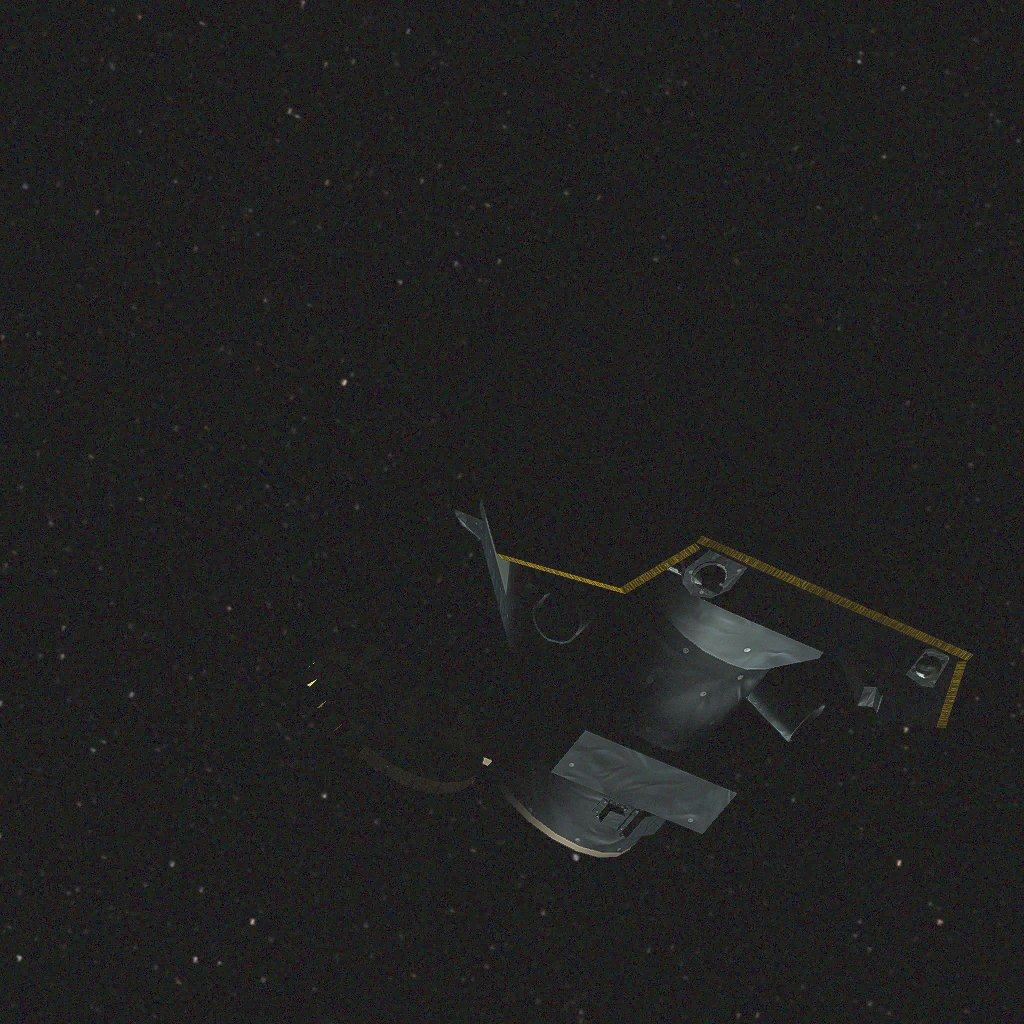cheops: (307, 262, 974, 857)
